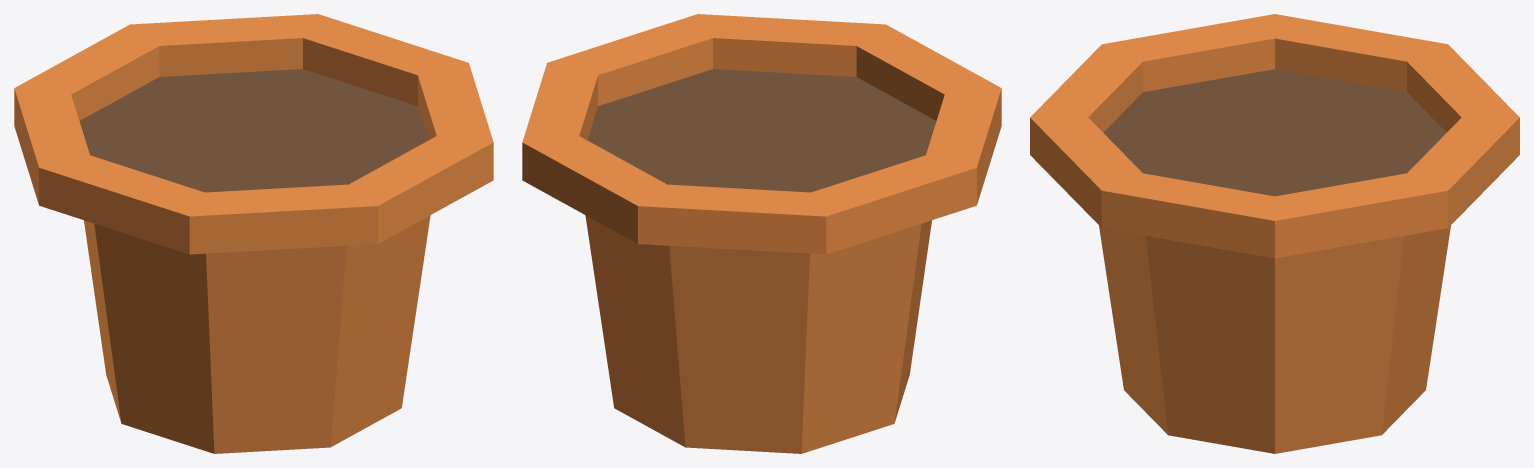
File: Pot_1.fbx
The picture shows the model from 3 angles, left to right: view 1: azimuth 30°, elevation 25°; view 2: azimuth 150°, elevation 25°; view 3: azimuth 270°, elevation 25°; orthographic projection.
Parts seen in each view (by area): view 1: Pot_1; view 2: Pot_1; view 3: Pot_1.
Boxes of the visible parts, x1=… form: Pot_1: x1=14, y1=14, x2=493, y2=453; Pot_1: x1=522, y1=14, x2=1001, y2=453; Pot_1: x1=1030, y1=14, x2=1519, y2=453.
Bounding box in the file's own units: 49.99 × 49.99 × 30.71.
